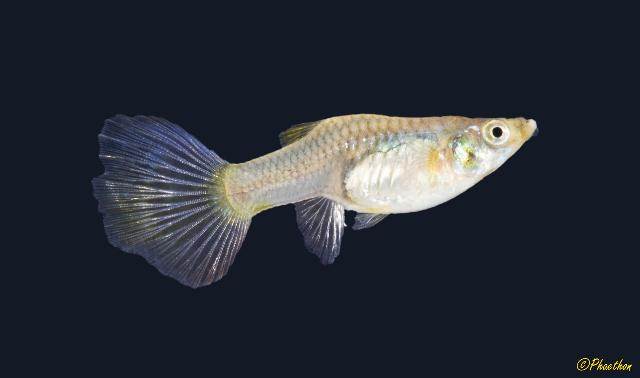Mulut: (498, 95, 546, 160)
Sirip Dada: (393, 121, 451, 198)
Sirip Ekor: (74, 102, 262, 302)
Sirip Perut: (282, 189, 350, 272), (349, 202, 398, 245)
Sirip Punggung: (264, 109, 352, 154)
